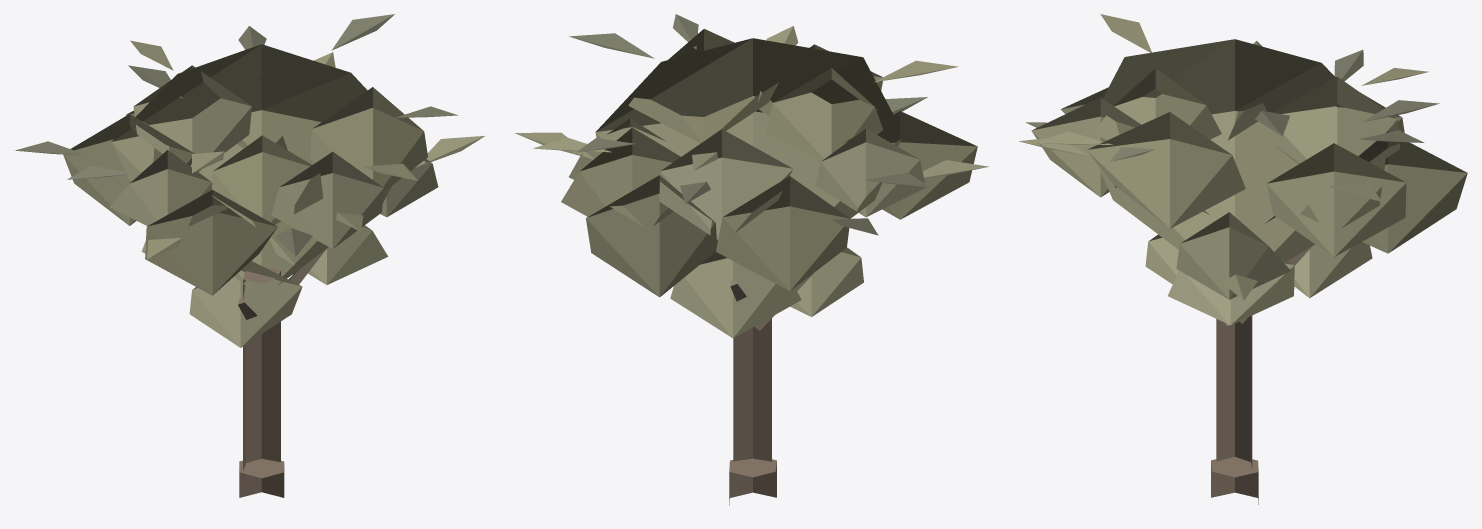
Rendered from shu.xiangzhang__winter.glb.
3 renders of one model, left to right at view 1: azimuth 30°, elevation 25°; view 2: azimuth 150°, elevation 25°; view 3: azimuth 270°, elevation 25°, orthographic. The views are drawn at different scales.
Parts seen in each view (by area): view 1: shu.xiangzhang__winter; view 2: shu.xiangzhang__winter; view 3: shu.xiangzhang__winter.
Part boxes in pixels (x1,y1,x2,y2): shu.xiangzhang__winter: (15, 14, 485, 497); shu.xiangzhang__winter: (515, 14, 988, 505); shu.xiangzhang__winter: (1019, 14, 1467, 504).
Bounding box in the file's own units: 17.03 × 17.47 × 15.63.
